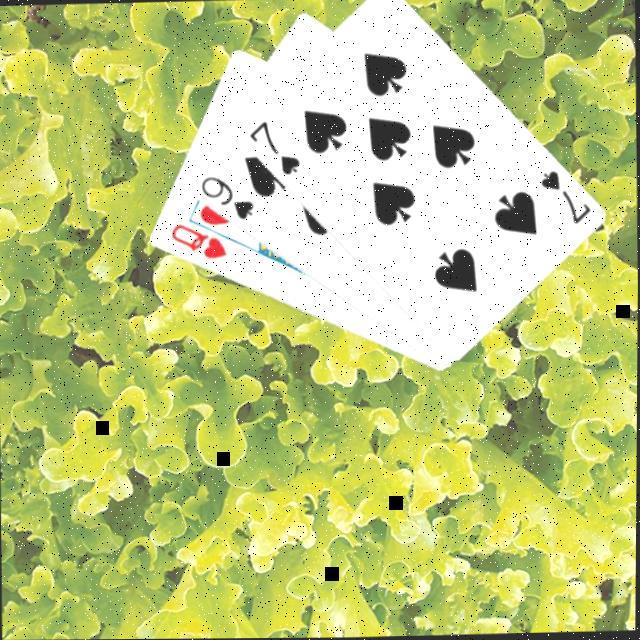7S: (241, 118, 300, 181), (533, 168, 592, 231)
9S: (194, 173, 255, 225)
QH: (163, 221, 227, 264)
